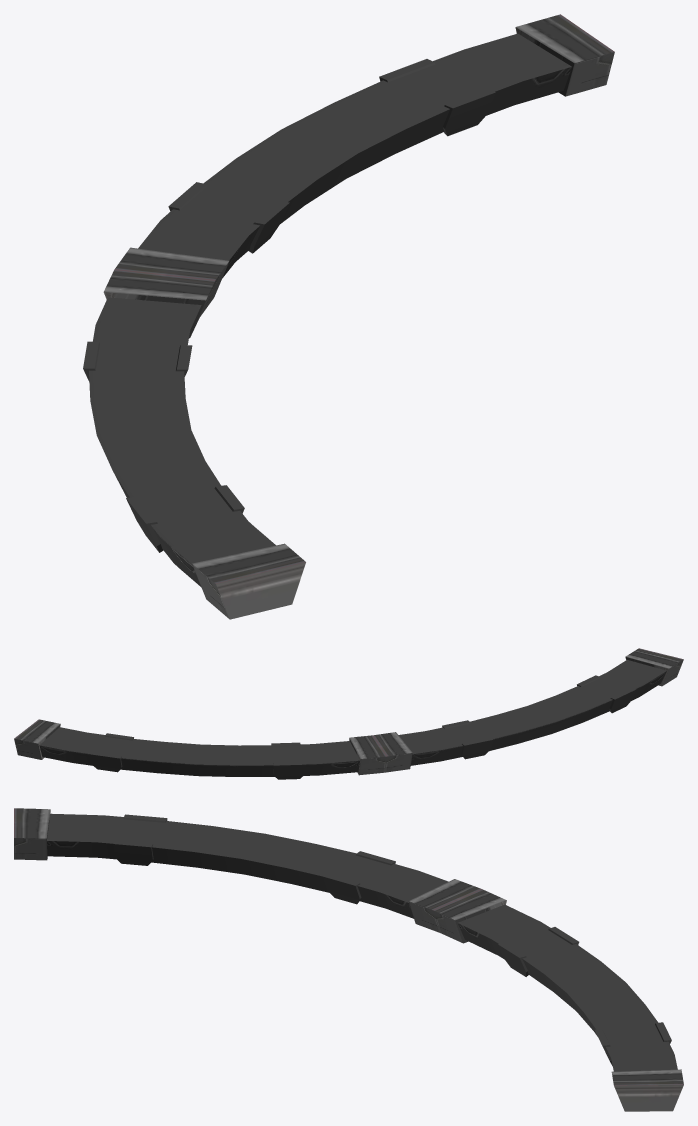
Rendered from applique-angle.glb.
The picture shows the model from 3 angles, top to bottom: view 1: azimuth 30°, elevation 25°; view 2: azimuth 150°, elevation 25°; view 3: azimuth 270°, elevation 25°; orthographic projection. The views are drawn at different scales.
Parts seen in each view (by area): view 1: Prop_Light_Corner; view 2: Prop_Light_Corner; view 3: Prop_Light_Corner.
Part boxes in pixels (x1,y1,x2,y2): Prop_Light_Corner: [83, 14, 614, 619]; Prop_Light_Corner: [14, 648, 683, 779]; Prop_Light_Corner: [14, 808, 683, 1111].
Bounding box in the file's own units: 4.12 × 0.1819 × 4.21.
Materials: 2 (1 with a texture image).
